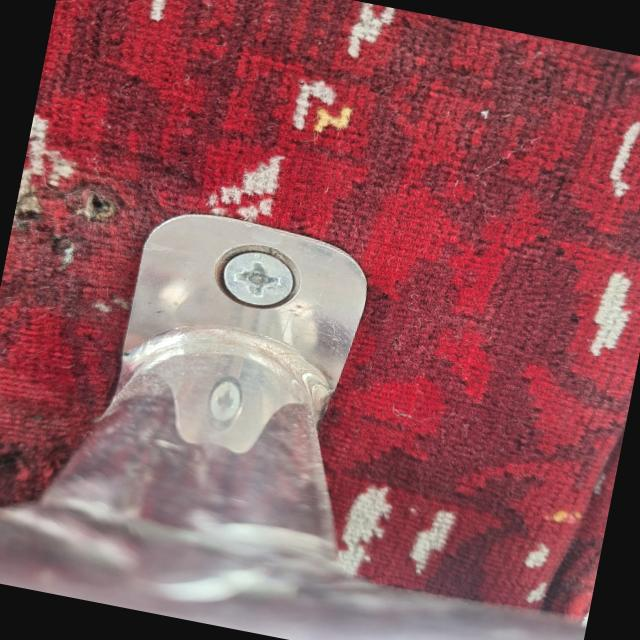Phillips: (213, 247, 304, 314)
